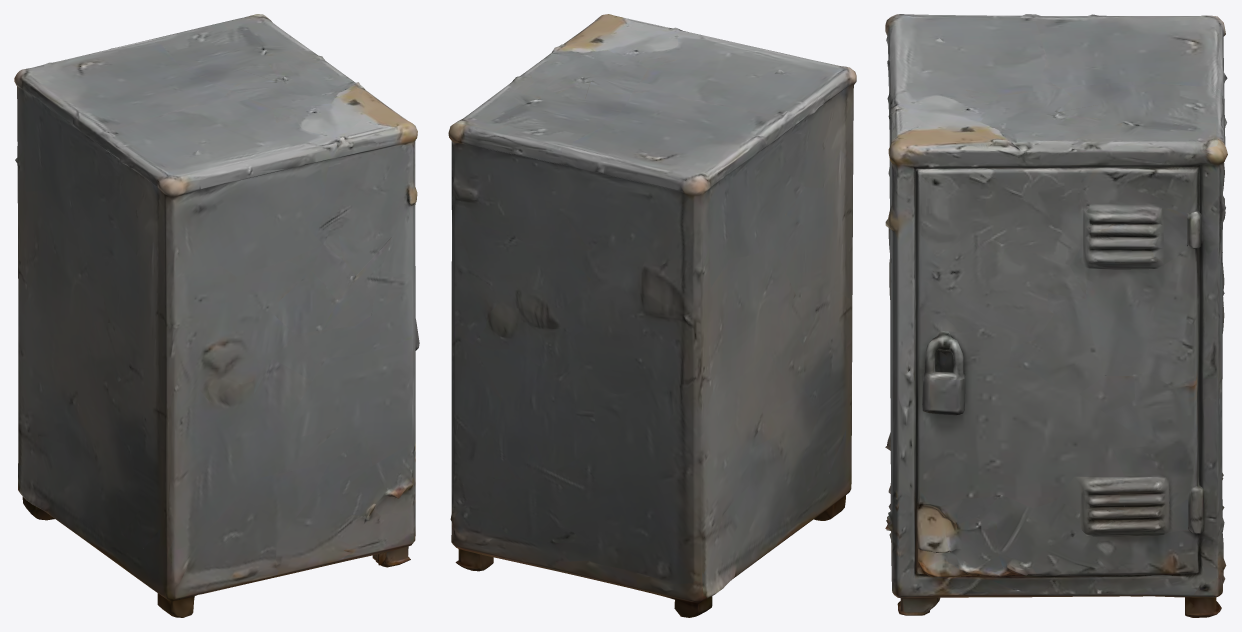
The model's file is locker.glb.
3 renders of one model, left to right at view 1: azimuth 30°, elevation 25°; view 2: azimuth 150°, elevation 25°; view 3: azimuth 270°, elevation 25°, orthographic. The views are drawn at different scales.
Visible parts, largest first — view 1: tripo_node_2795ea42-45a1-48f3-9663-129be0ffcb68; view 2: tripo_node_2795ea42-45a1-48f3-9663-129be0ffcb68; view 3: tripo_node_2795ea42-45a1-48f3-9663-129be0ffcb68.
Boxes of the visible parts, left/top/right/bottom form: tripo_node_2795ea42-45a1-48f3-9663-129be0ffcb68: left=14, top=14, right=419, bottom=617; tripo_node_2795ea42-45a1-48f3-9663-129be0ffcb68: left=448, top=14, right=856, bottom=617; tripo_node_2795ea42-45a1-48f3-9663-129be0ffcb68: left=885, top=14, right=1227, bottom=617.
Bounding box in the file's own units: 0.6343 × 1 × 0.6445.
1 material, 1 textured.
